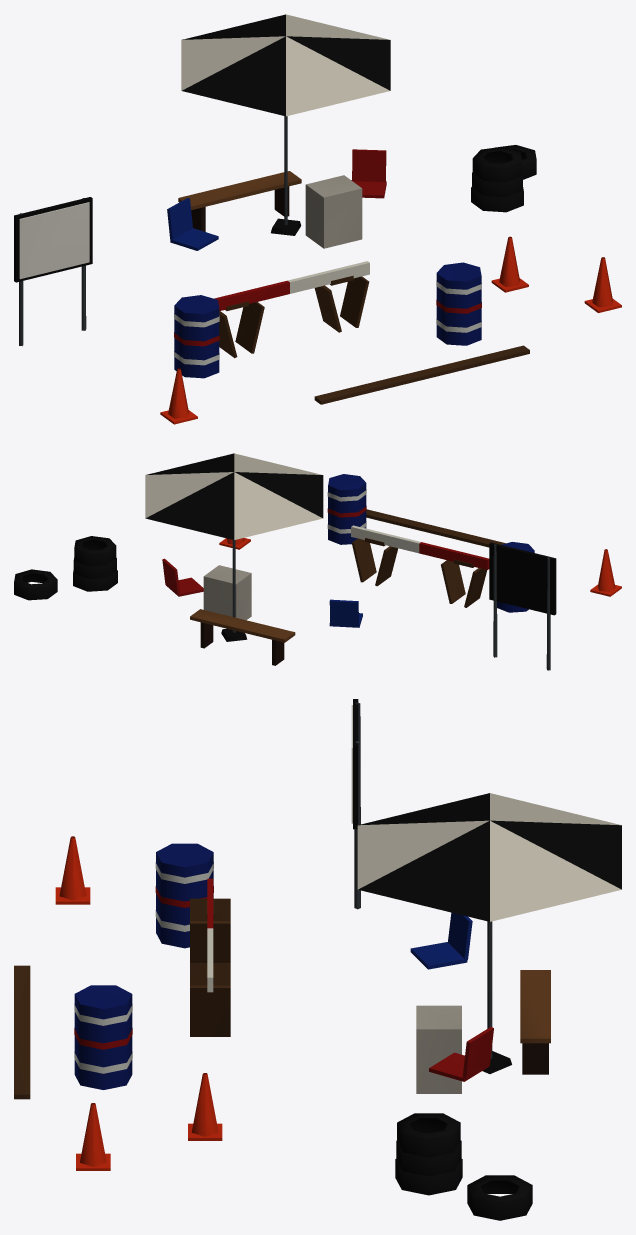
Rendered from cp_roadblock_lod1.glb.
3 views of the same model, one above another, from view 1: azimuth 30°, elevation 25°; view 2: azimuth 150°, elevation 25°; view 3: azimuth 270°, elevation 25° (orthographic). The views are drawn at different scales.
Visible parts, largest first — view 1: cp_roadblock_lod1; view 2: cp_roadblock_lod1; view 3: cp_roadblock_lod1.
Boxes of the visible parts, x1=… form: cp_roadblock_lod1: x1=14, y1=14, x2=621, y2=424; cp_roadblock_lod1: x1=14, y1=453, x2=621, y2=670; cp_roadblock_lod1: x1=14, y1=699, x2=621, y2=1220.
Size of the model in its own units: 8.28 by 2.65 by 5.98.
